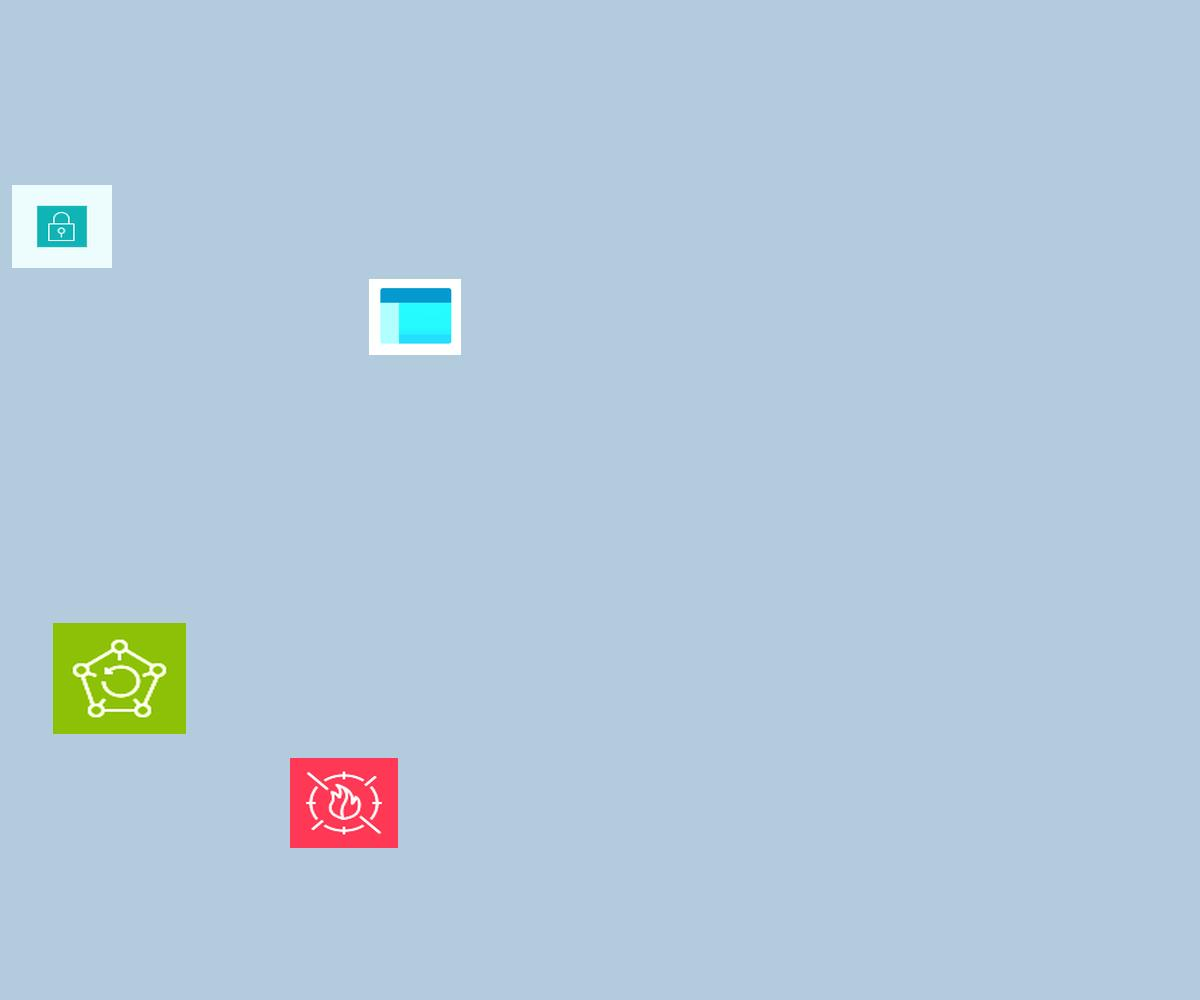AWS-Backup: (53, 623, 186, 734)
AWS-Private-subnet: (12, 185, 112, 268)
AWS-WAF: (290, 758, 398, 848)
Azure_management-portal: (369, 279, 461, 355)
